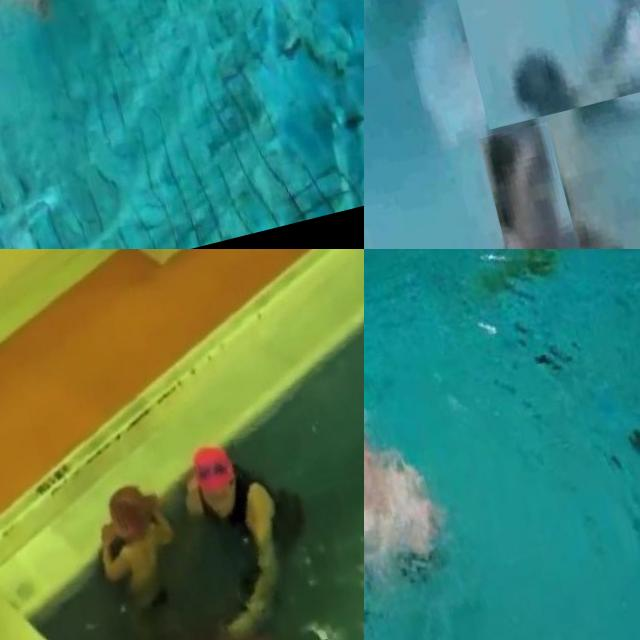drowning: (452, 0, 640, 130), (364, 390, 442, 585)
swimming: (165, 419, 328, 640), (77, 470, 193, 622), (479, 120, 587, 249), (364, 209, 406, 249)
